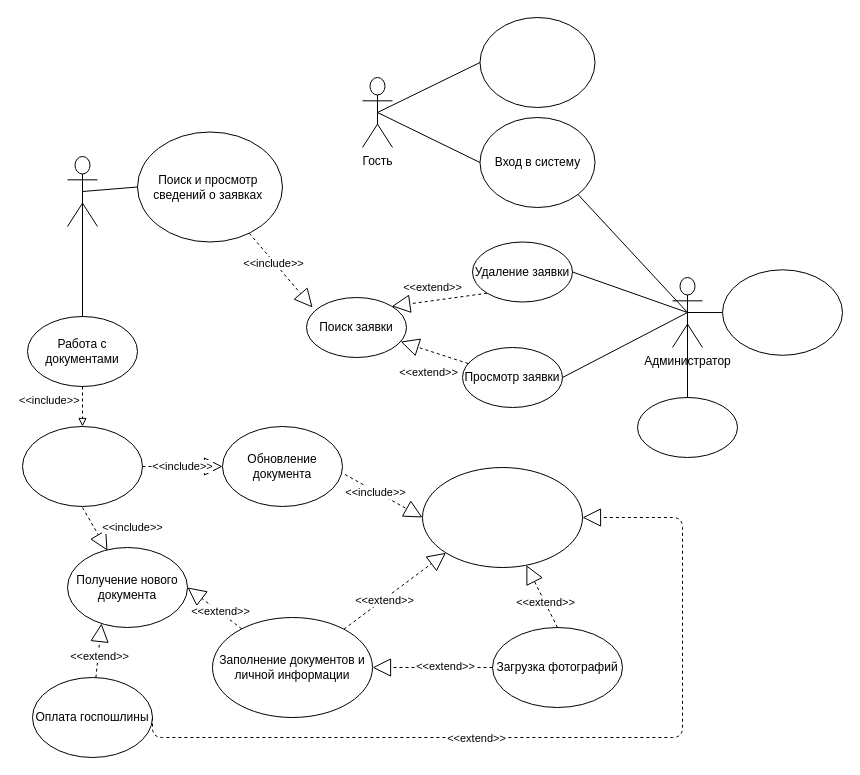
The diagram is 860 pixels wide and 775 high, and some of its shapes have lost their labels. The shapes that lost their labels are listed below. From the top down, each one's centre as x and y in pixels, then its label:
At pixel 537 62: "Регистрация в системе".
At pixel 82 191: "Клиент".
At pixel 782 312: "Изменения данных клиента".
At pixel 687 427: "Изменение заявки".
At pixel 82 466: "Выбор типа документа".
At pixel 502 517: "Заполнение информации о старом документе".
